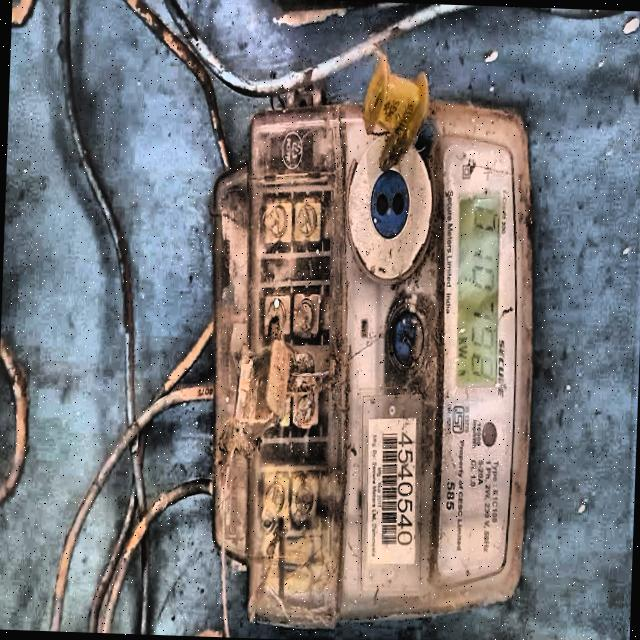Reading: (468, 201, 498, 384)
Serial No.: (394, 428, 414, 550)
